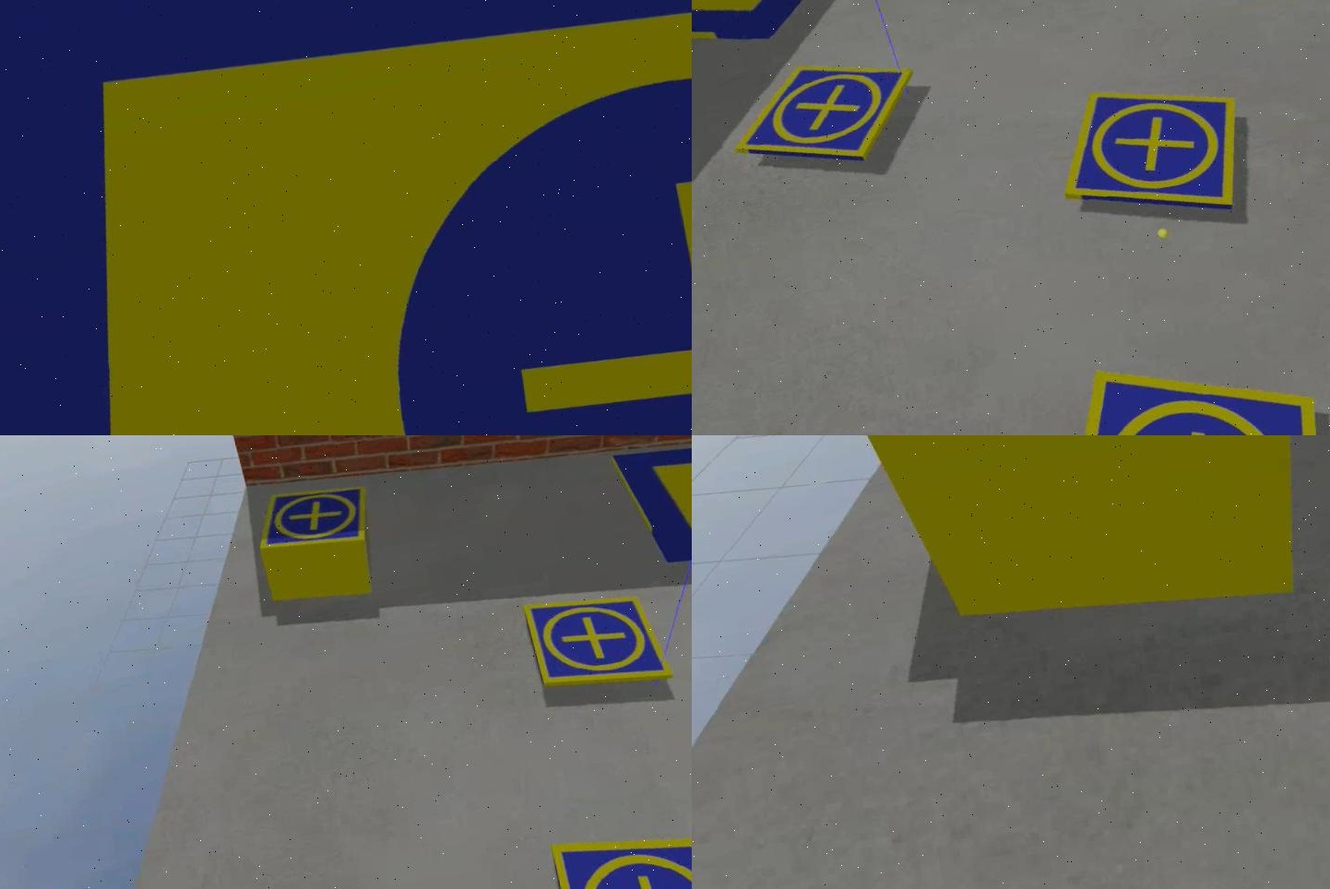large_base: (0, 1, 690, 435), (690, 1, 907, 72), (611, 435, 690, 575)
small_base: (1047, 71, 1253, 238), (1017, 338, 1328, 435), (719, 49, 926, 188), (522, 590, 672, 698), (545, 815, 690, 889), (249, 480, 373, 557)
